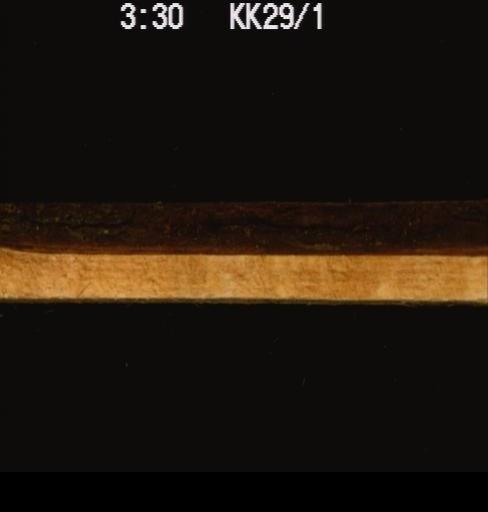wave: (0, 202, 486, 261)
